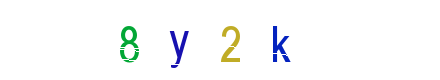2: (183, 0, 263, 80)
8: (89, 0, 169, 80)
K: (191, 0, 271, 80)
Y: (180, 0, 260, 80)
